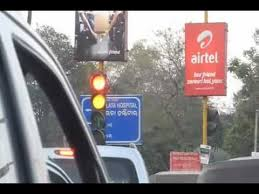signal: (88, 70, 107, 131)
